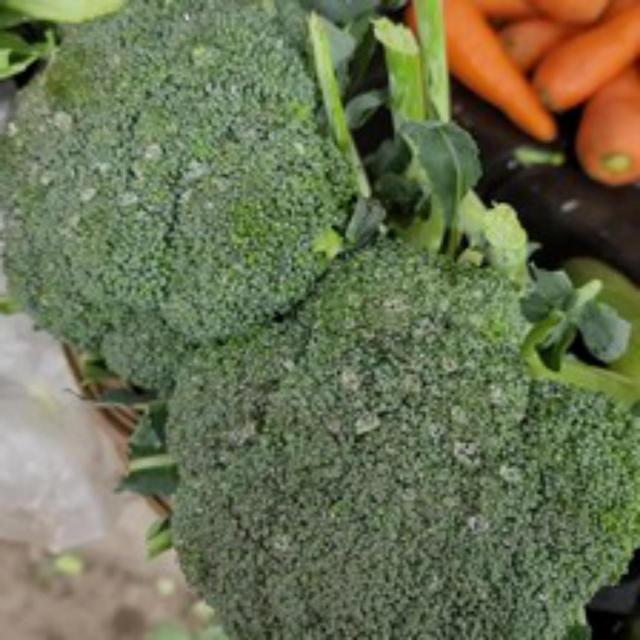broccoli: (157, 226, 637, 636)
